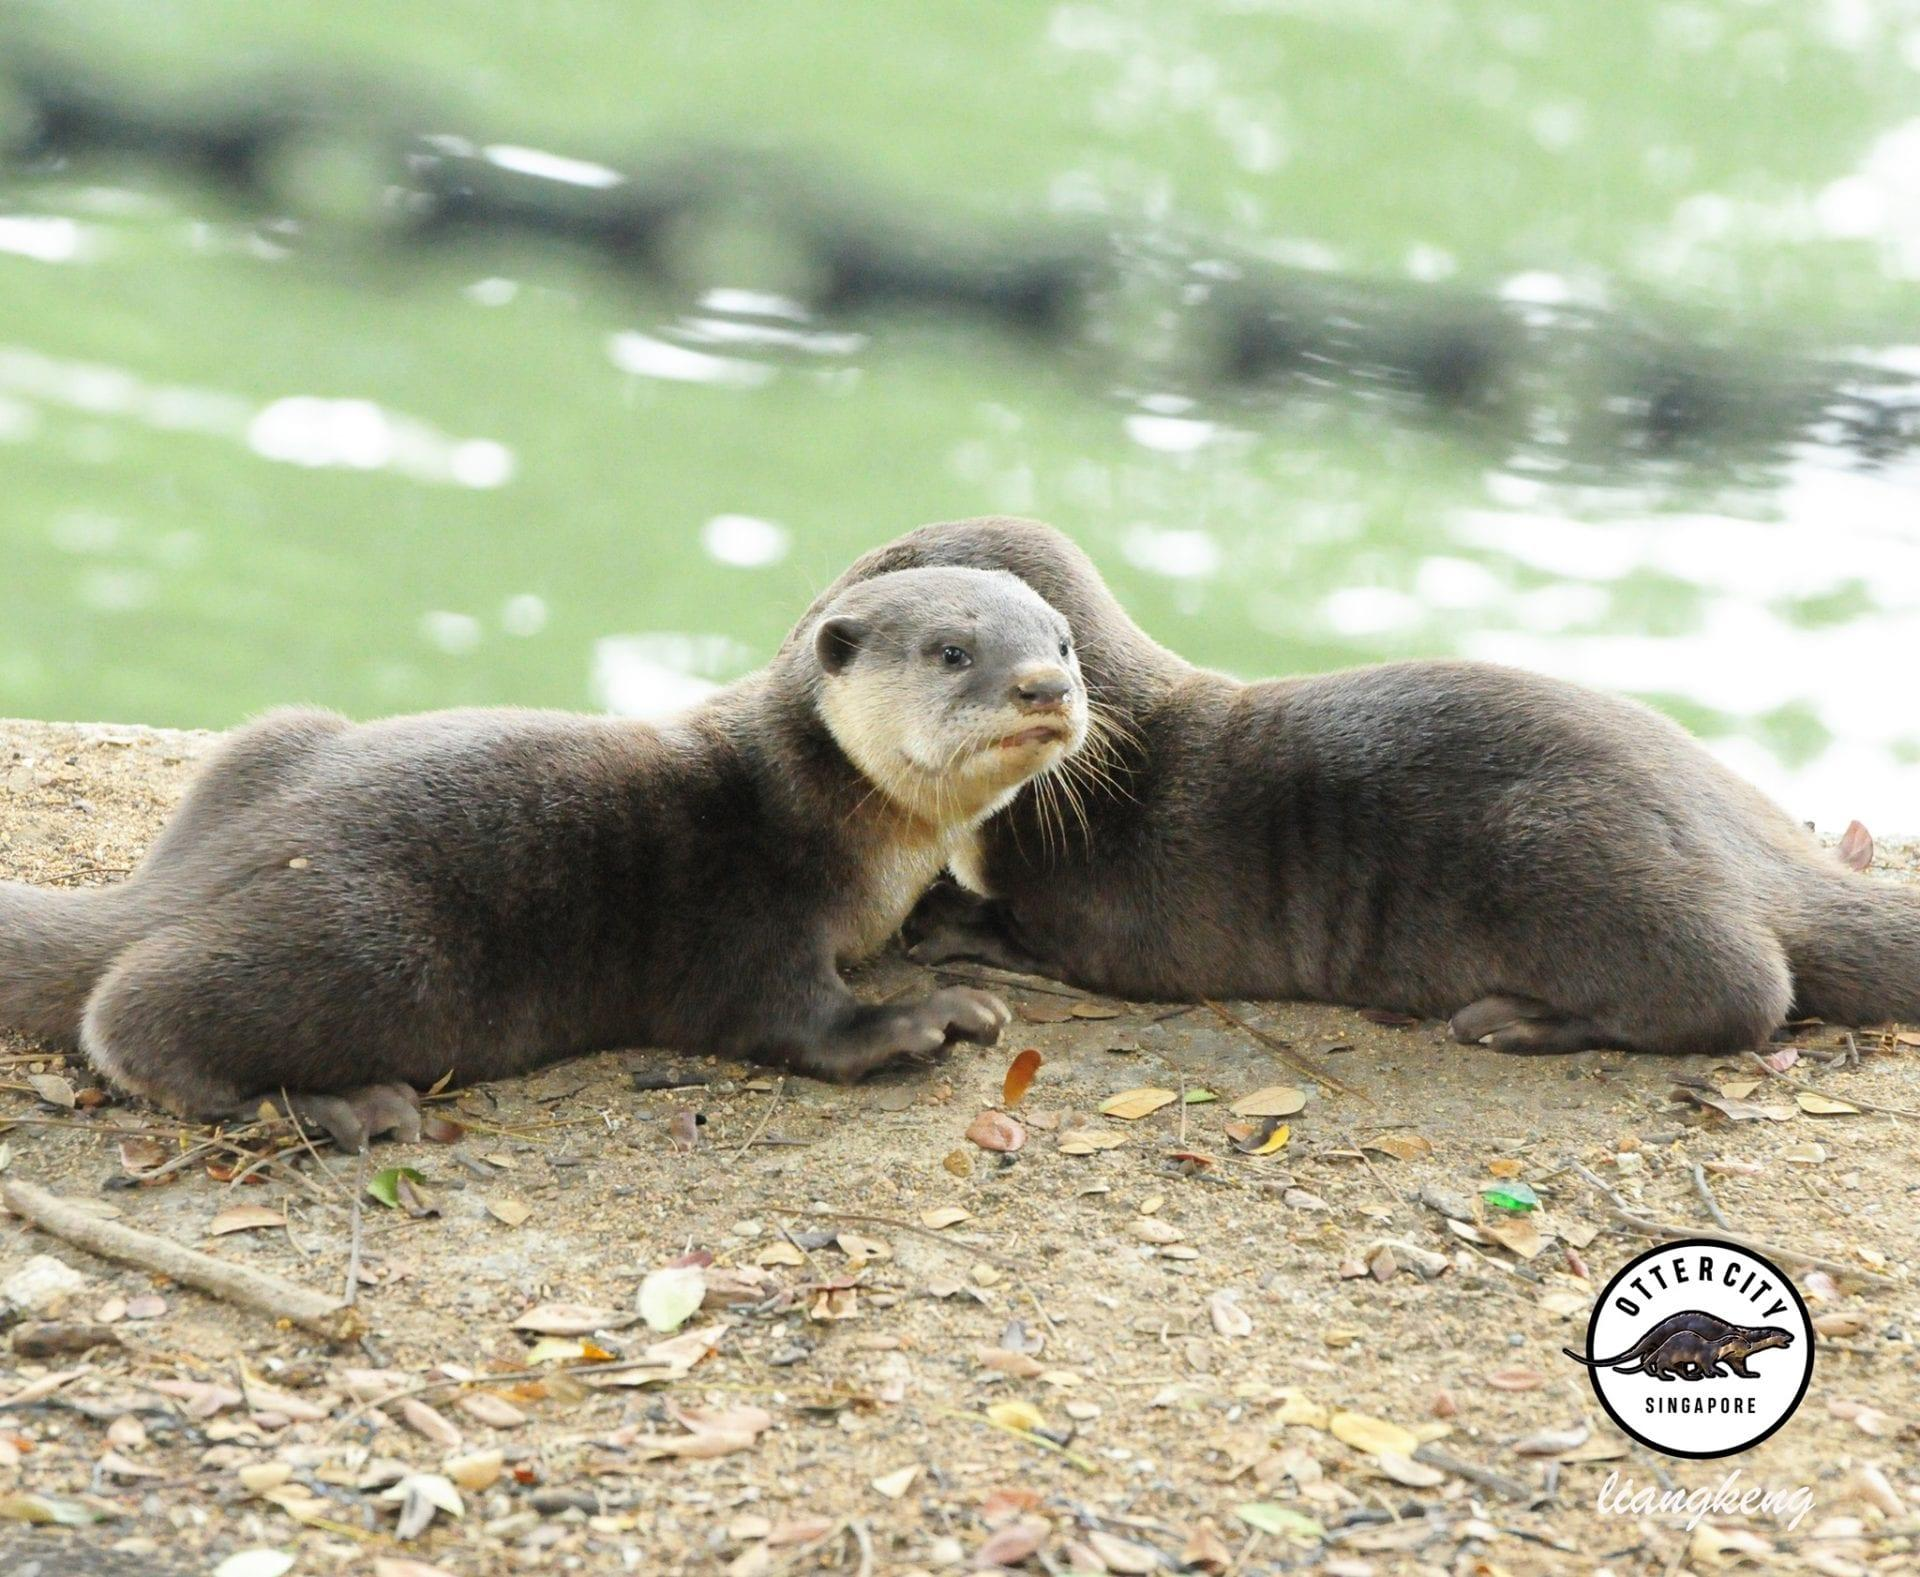otter: (773, 480, 1920, 1072), (13, 549, 1041, 1111)
